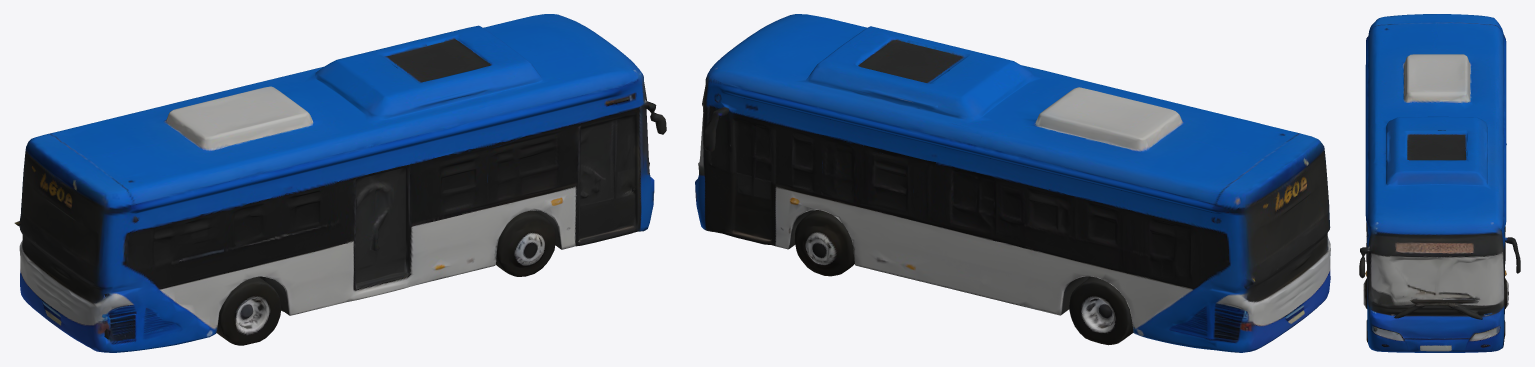
Rendered from brt.glb.
3 renders of one model, left to right at view 1: azimuth 30°, elevation 25°; view 2: azimuth 150°, elevation 25°; view 3: azimuth 270°, elevation 25°, orthographic. The views are drawn at different scales.
Parts seen in each view (by area): view 1: tripo_node_ed6f45f3-4397-4101-a0c1-0f3327b9d888; view 2: tripo_node_ed6f45f3-4397-4101-a0c1-0f3327b9d888; view 3: tripo_node_ed6f45f3-4397-4101-a0c1-0f3327b9d888.
Boxes of the visible parts, box(x1,y1,x2,y2) form: tripo_node_ed6f45f3-4397-4101-a0c1-0f3327b9d888: box(14, 14, 666, 352); tripo_node_ed6f45f3-4397-4101-a0c1-0f3327b9d888: box(695, 14, 1330, 352); tripo_node_ed6f45f3-4397-4101-a0c1-0f3327b9d888: box(1359, 14, 1520, 352).
Size of the model in its own units: 9.61 by 3.2 by 3.03.
1 material, 1 textured.
